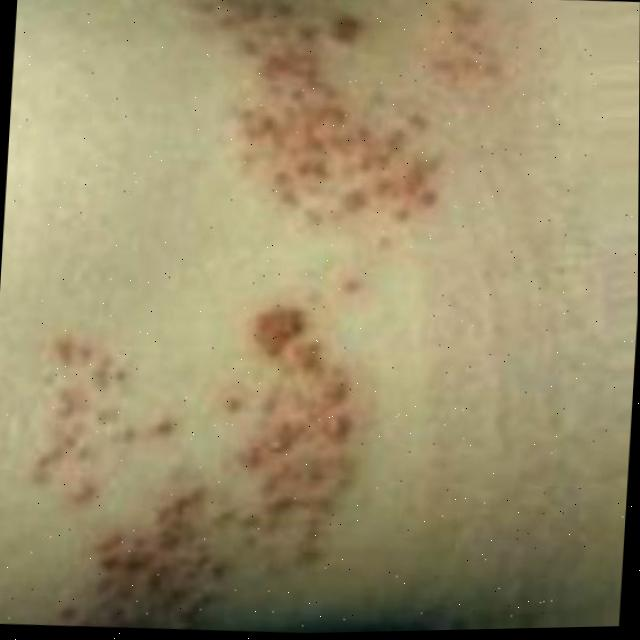Shingles: (19, 292, 370, 639), (153, 0, 507, 250)
